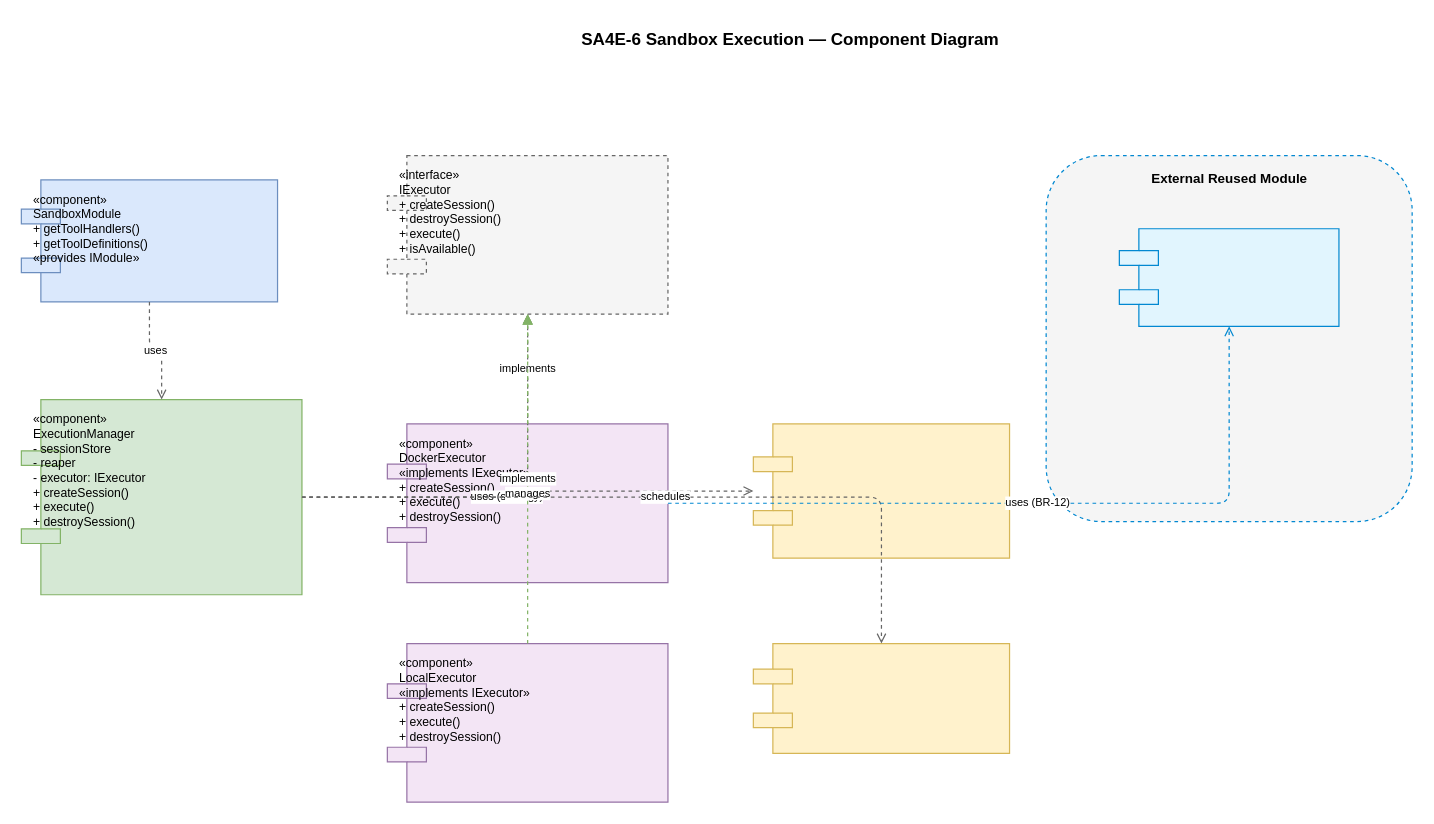
Image size: 1434x824. Some labels were removed from this diagram. The centre of each missing label's shape, as x and y in pixels:
"«component» Reaper - intervalMs + start() + tick()" goes at [881,697].
"«component» SecurityModule (SA4E-167 GateGuard) + applyHardening(profile)" goes at [1228,277].
"«component» SessionStore - sessions: Map + register() + get() + remove()" goes at [881,490].
